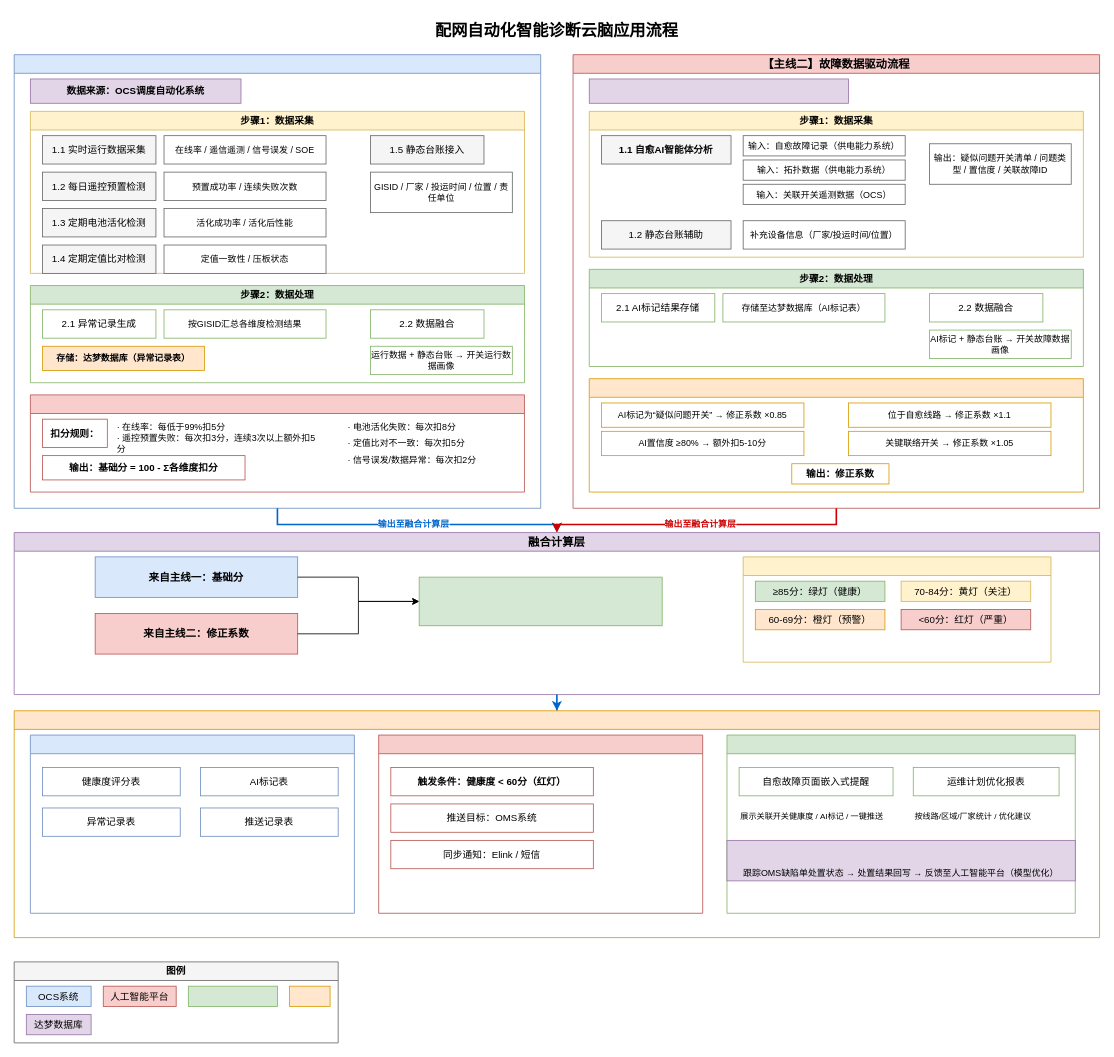
Image size: 1114x1057. Some labels were removed from this diagram. The shapes that lost their labels are listed below. From the top down, each one's box as (x1, y1, x2, y2) in pixels, then its label:
(588, 78, 848, 103): 数据来源：人工智能平台 + 供电能力分析系统
(13, 54, 541, 508): 【主线一】运行数据驱动流程
(30, 394, 524, 492): 步骤3：健康度基础分计算（调用人工智能平台健康度模型）
(588, 378, 1083, 492): 步骤3：修正系数生成
(418, 576, 662, 626): 最终健康度 = 基础分 × 修正系数
(742, 556, 1051, 662): 健康等级划分
(30, 734, 354, 913): 输出1：数据存储（达梦数据库）
(378, 734, 703, 913): 输出2：缺陷单推送
(13, 710, 1100, 938): 输出层
(726, 734, 1075, 913): 输出3：供电能力分析系统集成
(726, 840, 1075, 881): 闭环管理
(188, 985, 277, 1006): 供电能力分析系统
(289, 985, 330, 1006): OMS系统
